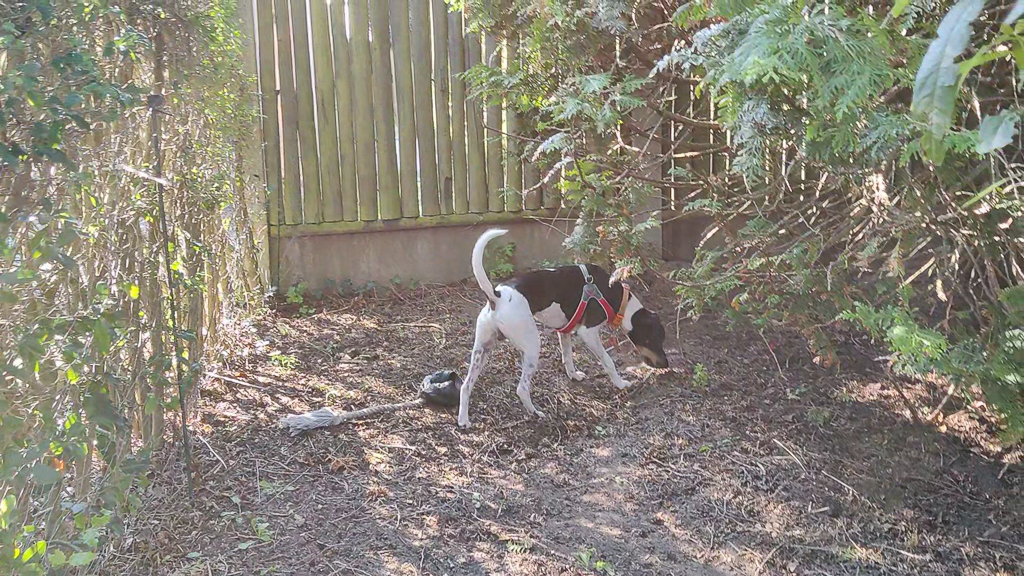Dog: (435, 214, 680, 439)
